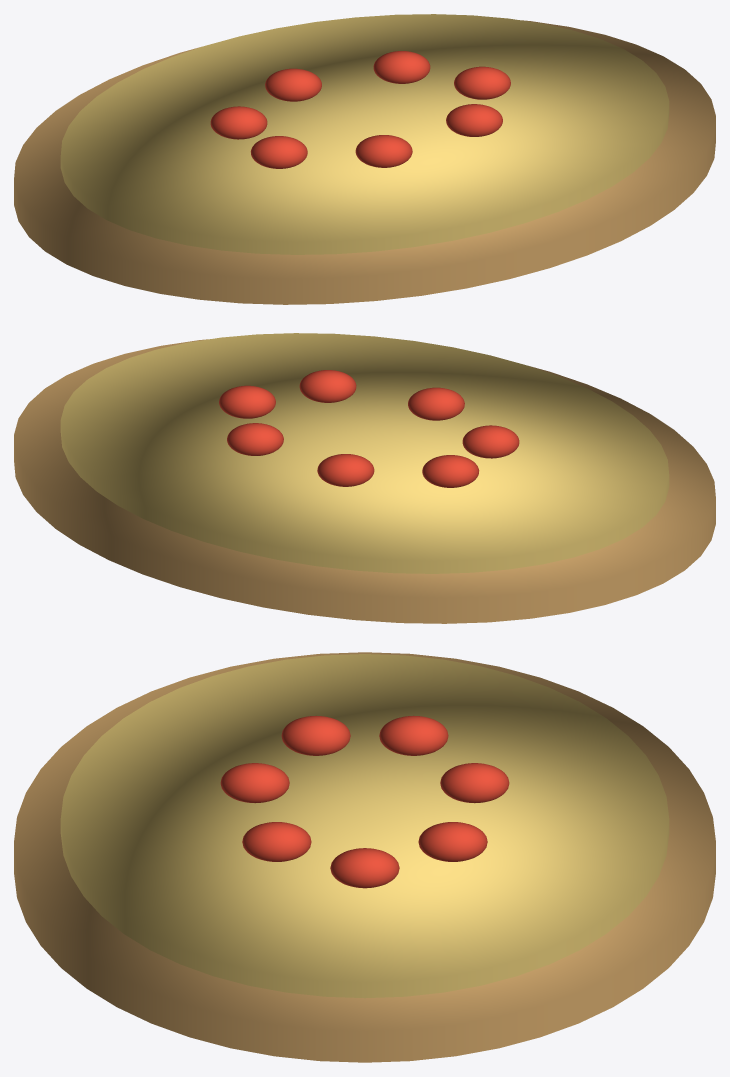
Rendered from pizza.glb.
3 renders of one model, top to bottom at view 1: azimuth 30°, elevation 25°; view 2: azimuth 150°, elevation 25°; view 3: azimuth 270°, elevation 25°, orthographic. The views are drawn at different scales.
Size of the model in its own units: 2.07 by 0.225 by 1.62.
